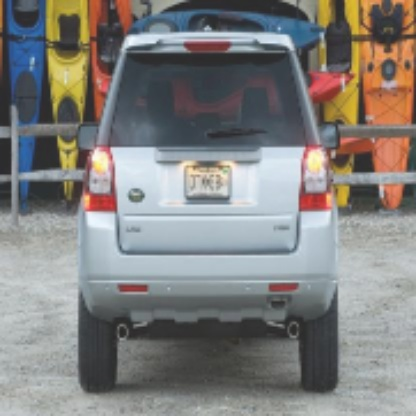Vehicle: (70, 30, 345, 396)
